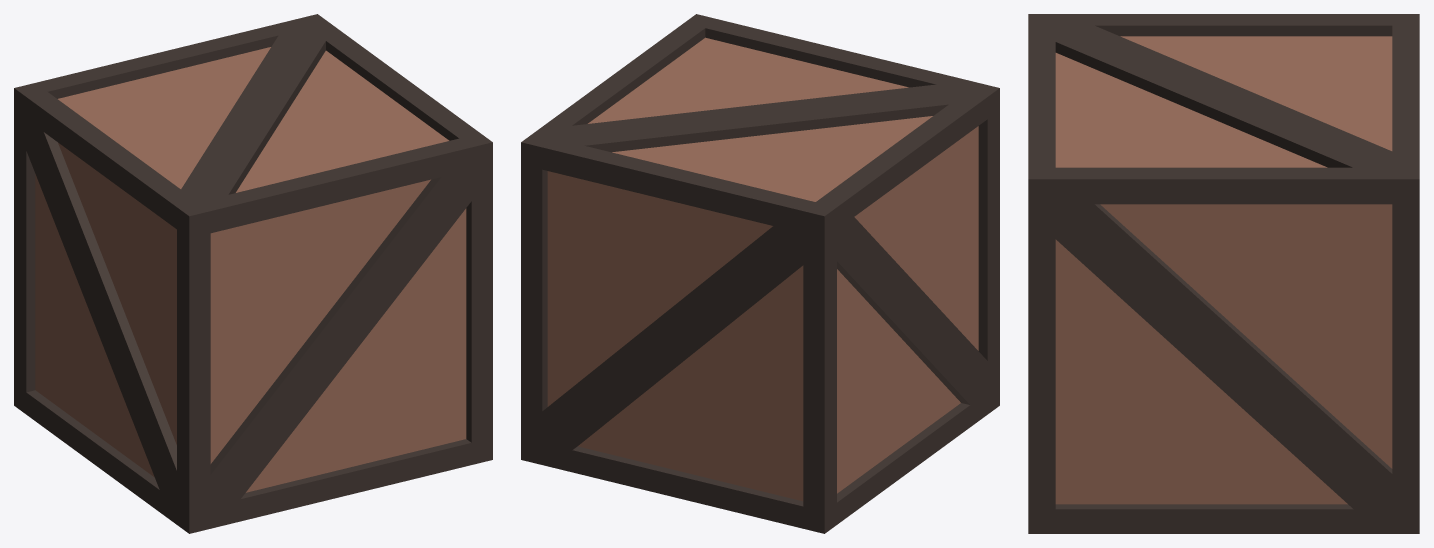
3 views of the same model, side by side, from view 1: azimuth 30°, elevation 25°; view 2: azimuth 150°, elevation 25°; view 3: azimuth 270°, elevation 25° (orthographic). The views are drawn at different scales.
Visible parts, largest first — view 1: Lowpoly_Christmas_Pack_099:pCube1; view 2: Lowpoly_Christmas_Pack_099:pCube1; view 3: Lowpoly_Christmas_Pack_099:pCube1.
Part boxes in pixels (x1=…): Lowpoly_Christmas_Pack_099:pCube1: x1=14, y1=14, x2=492, y2=533; Lowpoly_Christmas_Pack_099:pCube1: x1=521, y1=14, x2=999, y2=533; Lowpoly_Christmas_Pack_099:pCube1: x1=1028, y1=14, x2=1419, y2=533.
Size of the model in its own units: 1 by 1 by 1.
